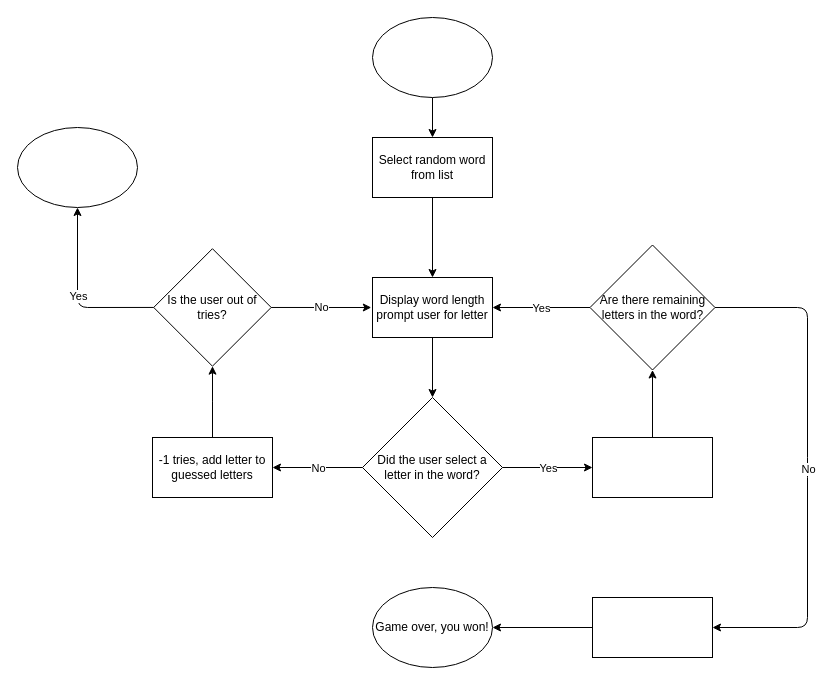
This 833x685 diagram has some shape labels left out. Here are the shapes that lost their labels. From the top down, the centre of each, then its label:
At (x=432, y=57): "Start".
At (x=77, y=167): "Game over".
At (x=652, y=467): "Add letter to word".
At (x=652, y=627): "Decrypt word and display to user".
